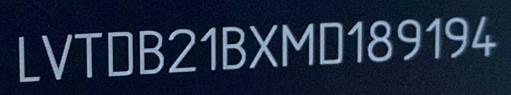letter: (40, 31, 73, 82), (279, 21, 314, 68), (247, 22, 280, 71), (73, 30, 104, 81), (166, 26, 198, 75), (138, 29, 166, 78), (105, 30, 134, 77), (469, 12, 499, 57), (317, 19, 345, 66), (220, 25, 248, 72), (366, 18, 394, 63), (15, 33, 40, 82), (443, 14, 469, 61), (396, 16, 422, 63), (198, 25, 218, 74), (345, 18, 365, 65), (425, 14, 444, 61)
